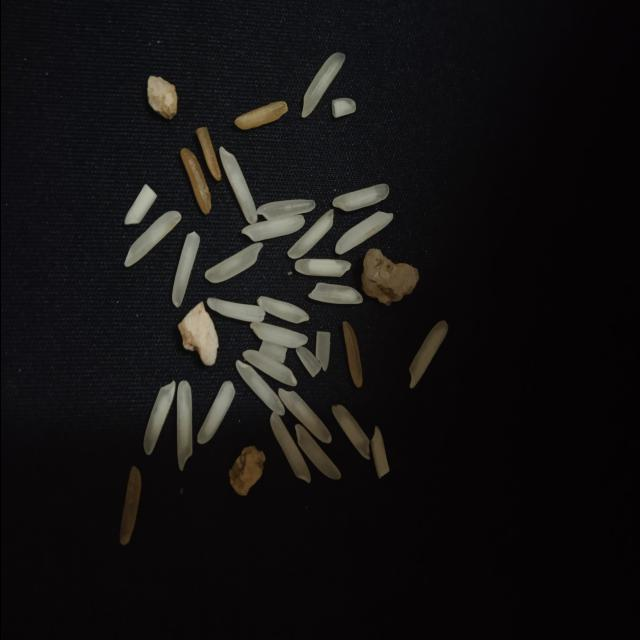Broken: (196, 380, 234, 444), (171, 230, 199, 306), (180, 148, 210, 214), (118, 465, 142, 545), (123, 182, 157, 224), (147, 74, 178, 119), (342, 321, 362, 387), (369, 426, 389, 479), (314, 330, 329, 370), (332, 98, 356, 118)
Full: (122, 210, 180, 268), (278, 387, 332, 442), (217, 148, 255, 226), (269, 410, 310, 482), (408, 320, 448, 390), (236, 362, 286, 416), (302, 52, 344, 116), (294, 424, 340, 481), (142, 380, 176, 455), (332, 212, 392, 254), (286, 208, 334, 258), (205, 243, 262, 284), (330, 403, 370, 459), (242, 347, 298, 385), (240, 215, 304, 242), (331, 183, 389, 211), (233, 100, 287, 130), (249, 322, 307, 348), (176, 379, 192, 472), (256, 296, 308, 324), (196, 126, 222, 180), (205, 298, 262, 322), (256, 199, 316, 220), (307, 282, 361, 304), (292, 258, 350, 276), (296, 345, 322, 376)
